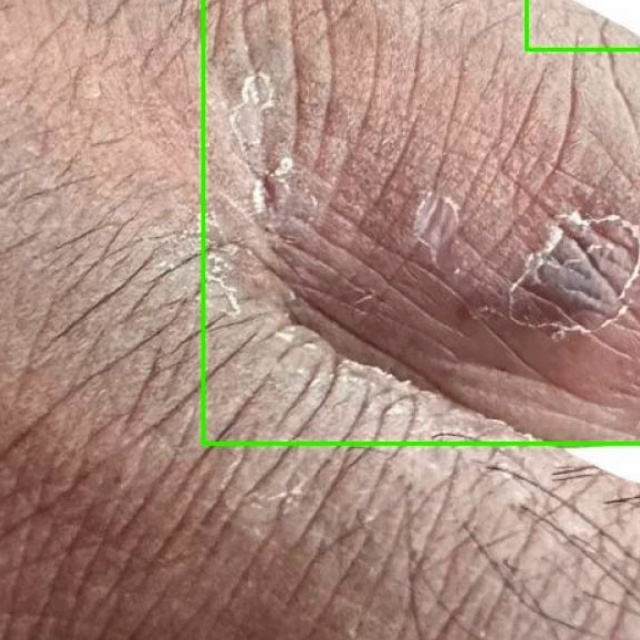Scabies: (203, 0, 639, 443)
